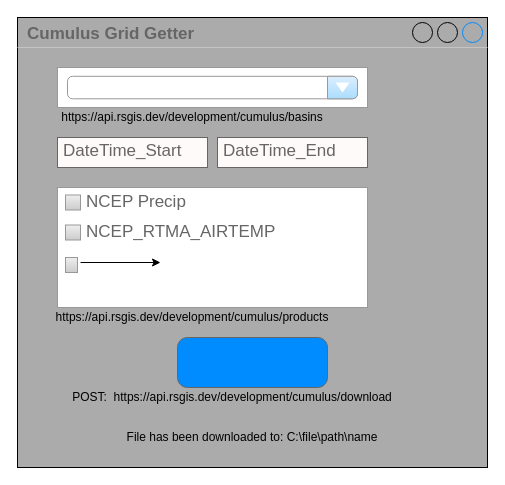
The diagram is 505 pixels wide and 485 high, and some of its shapes have lost their labels. Each missing label, with the box of its shape:
nohrsc_snodas_snowdepth: (64, 256, 78, 272)
Select Watershed: (66, 75, 358, 99)
Submit: (176, 336, 328, 388)
